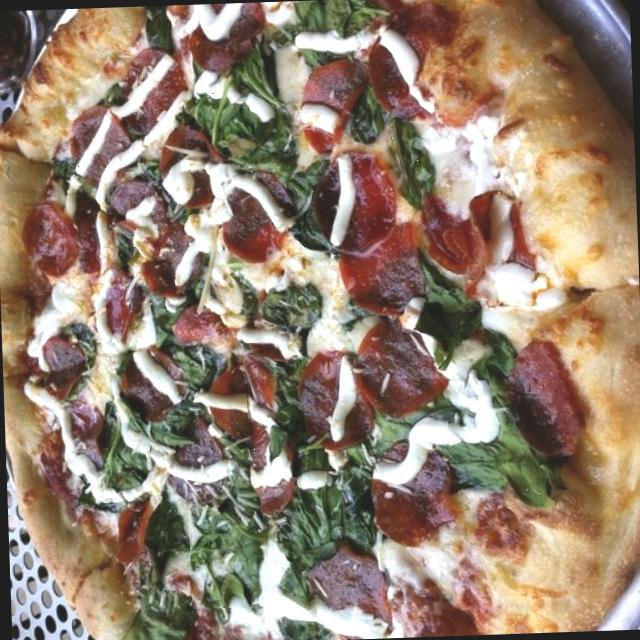basil: (446, 416, 556, 511), (188, 505, 267, 609), (220, 65, 289, 169), (224, 272, 320, 345), (423, 264, 489, 369), (367, 398, 478, 454), (94, 401, 157, 497), (292, 0, 384, 64), (277, 504, 377, 558), (387, 118, 433, 215), (140, 492, 186, 586), (298, 448, 368, 506), (120, 587, 195, 640), (143, 291, 188, 348), (176, 335, 220, 392), (341, 92, 384, 149), (154, 397, 204, 443), (192, 90, 224, 140)
pepperoni: (422, 185, 536, 309), (334, 156, 418, 322), (364, 1, 460, 119), (362, 439, 458, 548), (233, 363, 296, 512), (507, 336, 581, 456), (356, 315, 439, 414), (294, 342, 368, 447), (118, 36, 196, 134), (215, 168, 292, 266), (298, 56, 370, 150), (181, 2, 258, 79), (306, 536, 380, 616), (65, 102, 130, 192), (158, 132, 225, 212), (18, 196, 76, 286), (141, 222, 206, 300), (120, 343, 186, 419), (98, 180, 168, 248), (172, 424, 230, 506), (30, 339, 81, 400), (110, 496, 152, 559), (97, 270, 135, 338), (64, 392, 100, 462)
pizza: (0, 0, 640, 640)
